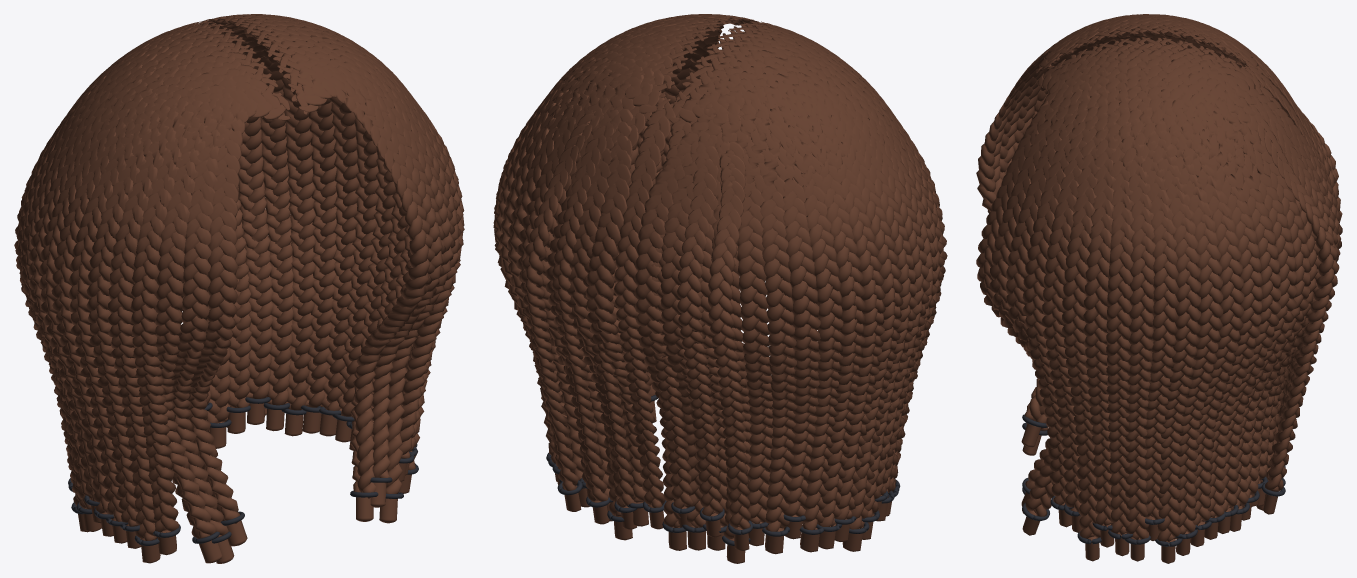
File: Feminine-box-braids-bucket260-hair.glb
The picture shows the model from 3 angles, left to right: view 1: azimuth 30°, elevation 25°; view 2: azimuth 150°, elevation 25°; view 3: azimuth 270°, elevation 25°; orthographic projection. The views are drawn at different scales.
Visible parts, largest first — view 1: 226 hair / Hair / chestnut226.001, 226 hair / Hair / ties226.001; view 2: 226 hair / Hair / chestnut226.001, 226 hair / Hair / ties226.001; view 3: 226 hair / Hair / chestnut226.001, 226 hair / Hair / ties226.001.
Boxes of the visible parts, x1,y1,x2,y2 form: 226 hair / Hair / chestnut226.001: (14, 14, 464, 563); 226 hair / Hair / ties226.001: (68, 397, 418, 545); 226 hair / Hair / chestnut226.001: (493, 14, 947, 563); 226 hair / Hair / ties226.001: (546, 395, 900, 545); 226 hair / Hair / chestnut226.001: (976, 14, 1342, 563); 226 hair / Hair / ties226.001: (1022, 414, 1285, 546).
Bounding box in the file's own units: 1.07 × 1.2 × 0.8658.
